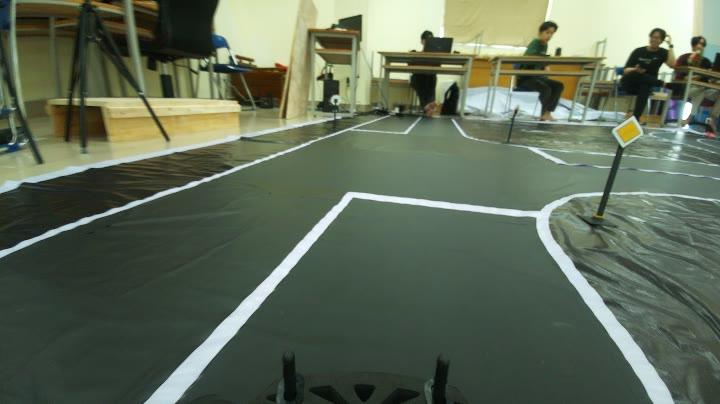priority: (606, 108, 648, 152)
